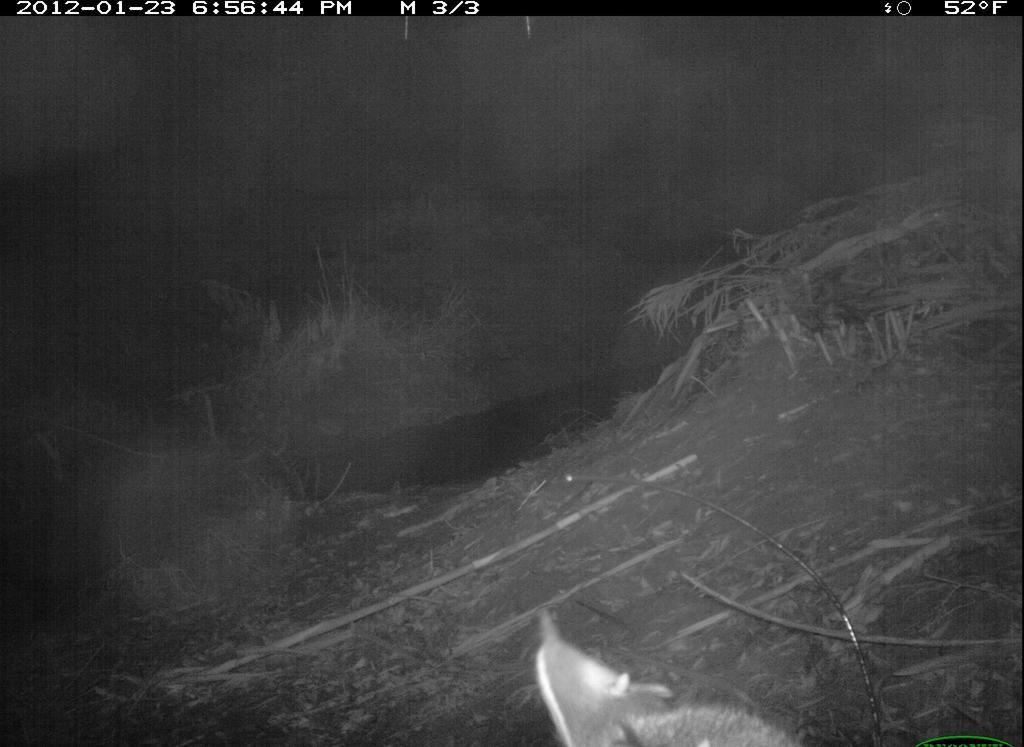bobcat: (516, 603, 812, 747)
